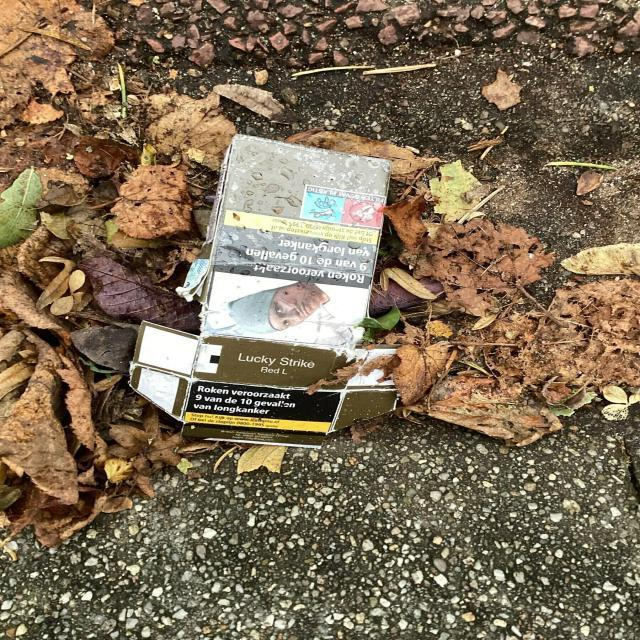Paper: (120, 129, 406, 454)
